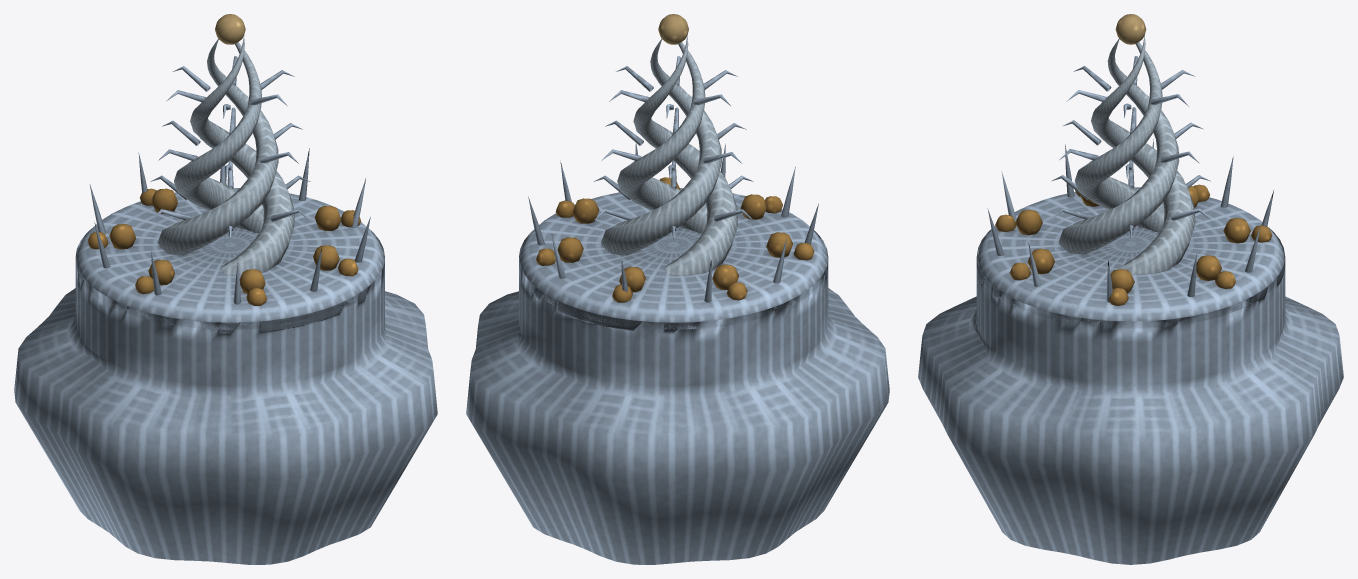
File: landmark_spire.glb
3 renders of one model, left to right at view 1: azimuth 30°, elevation 25°; view 2: azimuth 150°, elevation 25°; view 3: azimuth 270°, elevation 25°, orthographic.
Visible parts, largest first — view 1: LandmarkSpire, Growth_Beads, Growth_Needles; view 2: LandmarkSpire, Growth_Beads, Growth_Needles; view 3: LandmarkSpire, Growth_Beads, Growth_Needles.
Part boxes in pixels (box(x1,y1,x2,y2)): LandmarkSpire: box(14, 14, 437, 564); Growth_Beads: box(87, 188, 361, 305); Growth_Needles: box(89, 148, 370, 304); LandmarkSpire: box(466, 14, 889, 564); Growth_Beads: box(536, 177, 814, 302); Growth_Needles: box(528, 143, 818, 302); LandmarkSpire: box(918, 14, 1343, 564); Growth_Beads: box(995, 184, 1272, 305); Growth_Needles: box(987, 139, 1273, 302).
Bounding box in the file's own units: 5.44 × 7.15 × 5.52.
4 materials, 4 textured.
